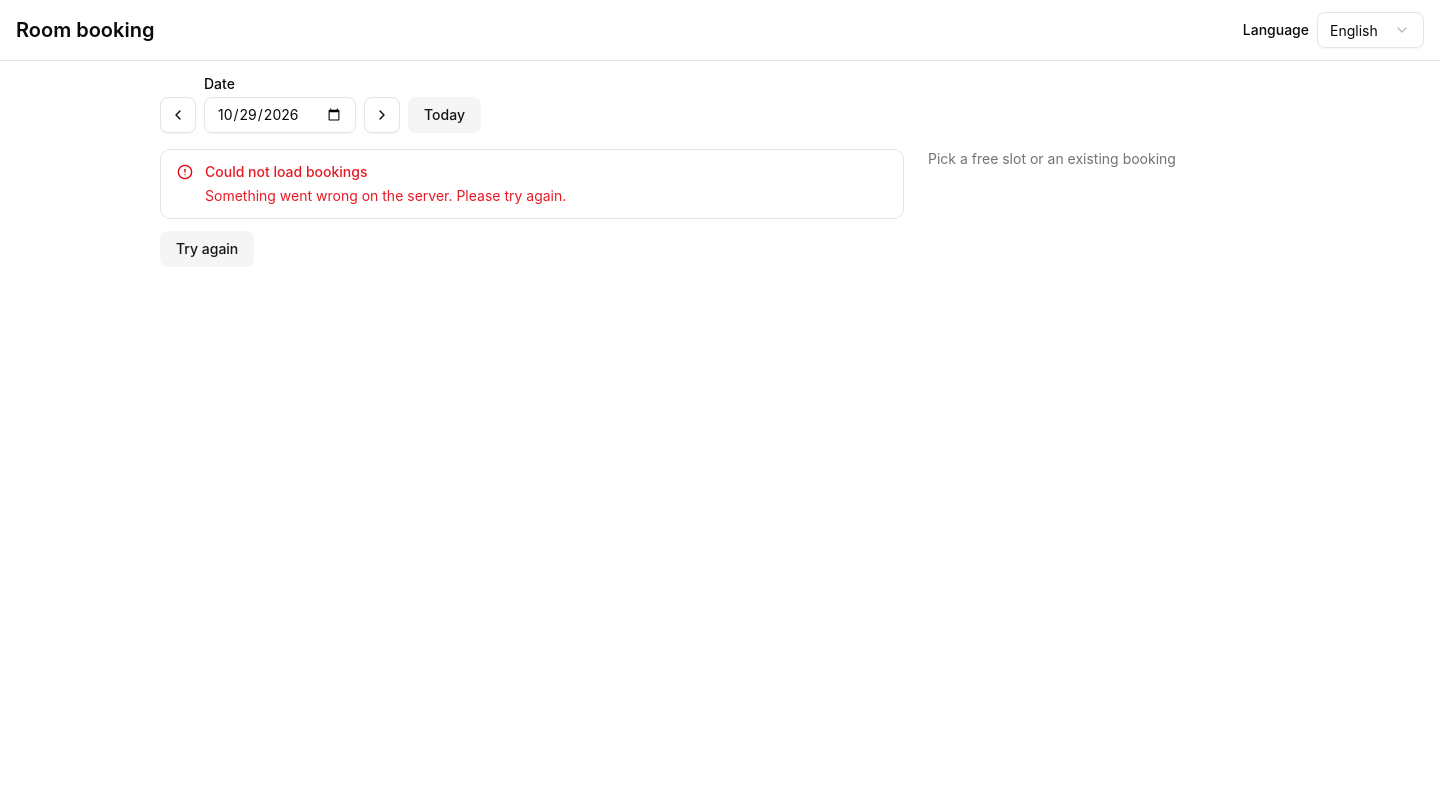
Test case: BookingScreen › loading the day › shows an error with a retry and recovers on retry
expect the message shows "Could not load bookings": met, box [205,163,368,180]
Click the button "Try again": (207, 249) [160,231,254,267]
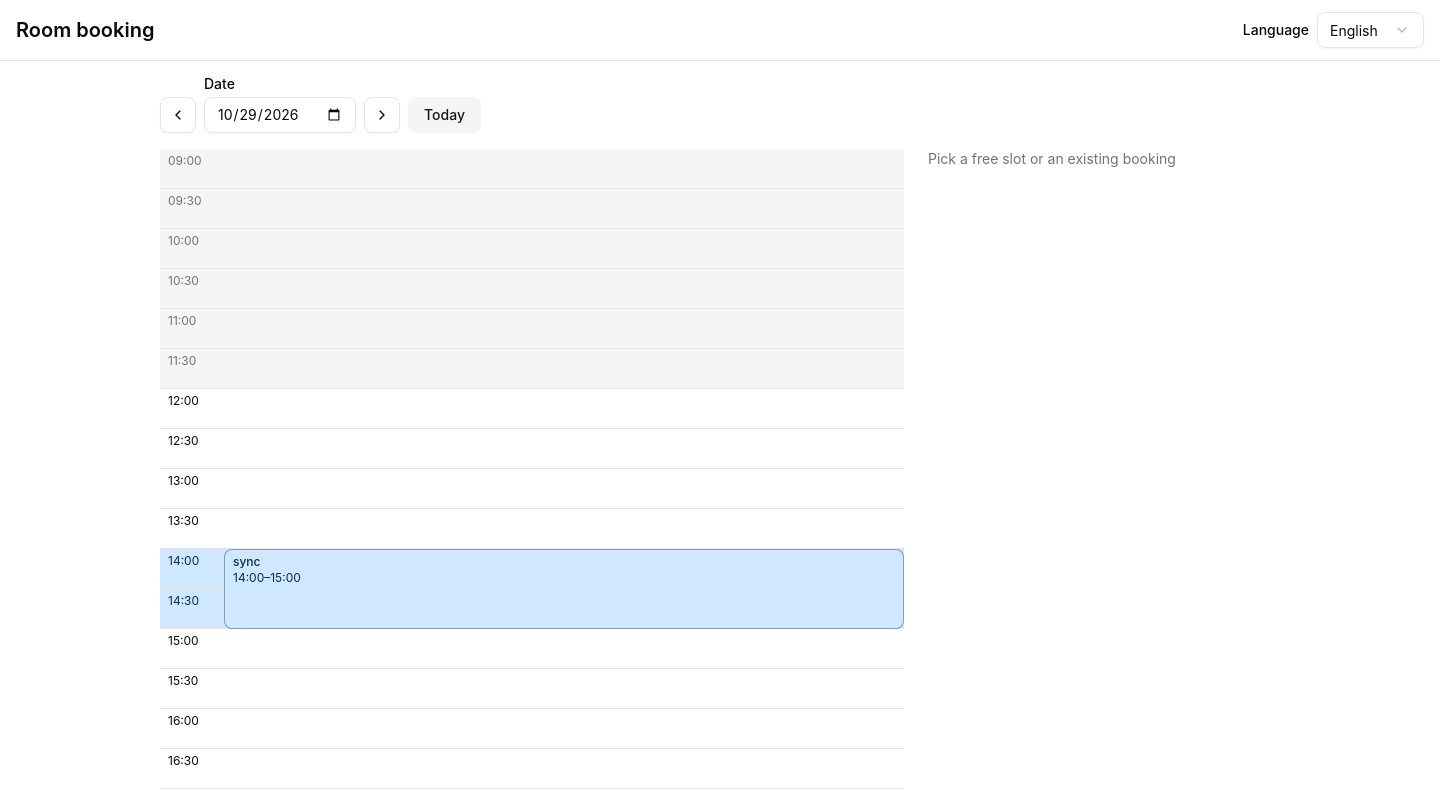
expect the button with aria-label "sync, 14:00–15:00" is shown: met, box [224,549,904,629]
